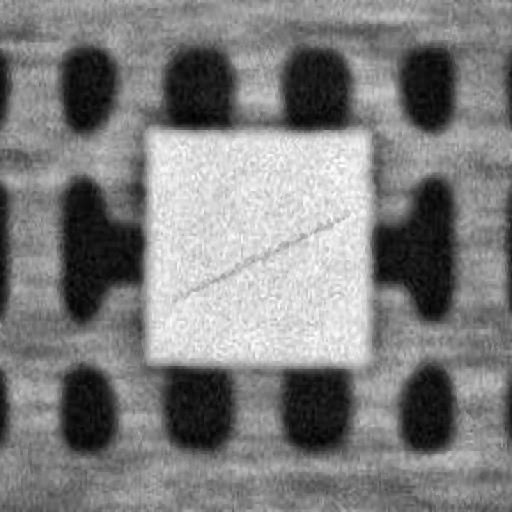DIE_CRACK: (255, 142, 512, 198)
